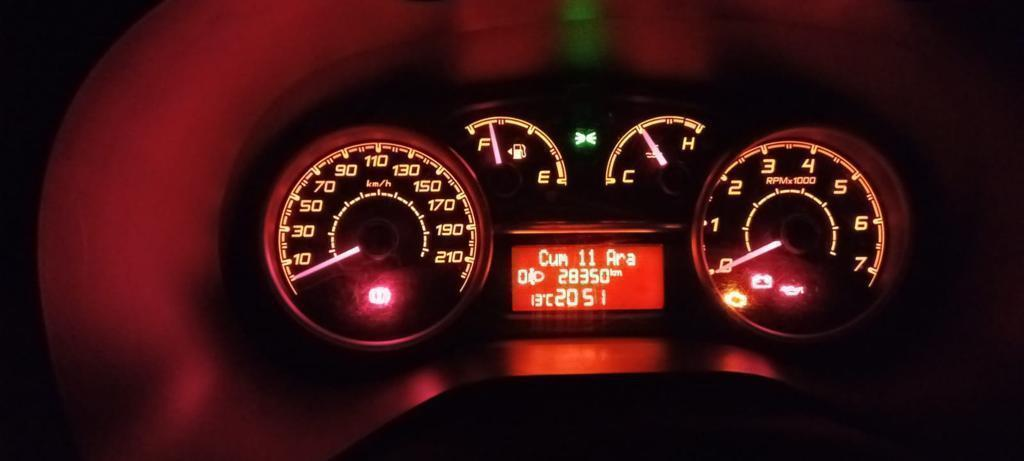0: (566, 287, 578, 307), (516, 268, 527, 284), (599, 267, 609, 284)
1: (577, 247, 587, 267), (587, 247, 596, 267), (600, 287, 606, 305), (529, 292, 534, 307)
2: (554, 287, 566, 307), (557, 267, 568, 284)
3: (579, 267, 588, 284), (534, 292, 542, 307)
5: (581, 287, 594, 306), (589, 267, 599, 284)
8: (568, 268, 578, 284)
X: (537, 247, 548, 267), (605, 247, 615, 266), (548, 252, 558, 267), (615, 251, 625, 266), (626, 251, 636, 266), (558, 253, 568, 267), (545, 291, 553, 307), (614, 269, 621, 276), (609, 267, 614, 276)
odometer: (509, 240, 666, 313)
